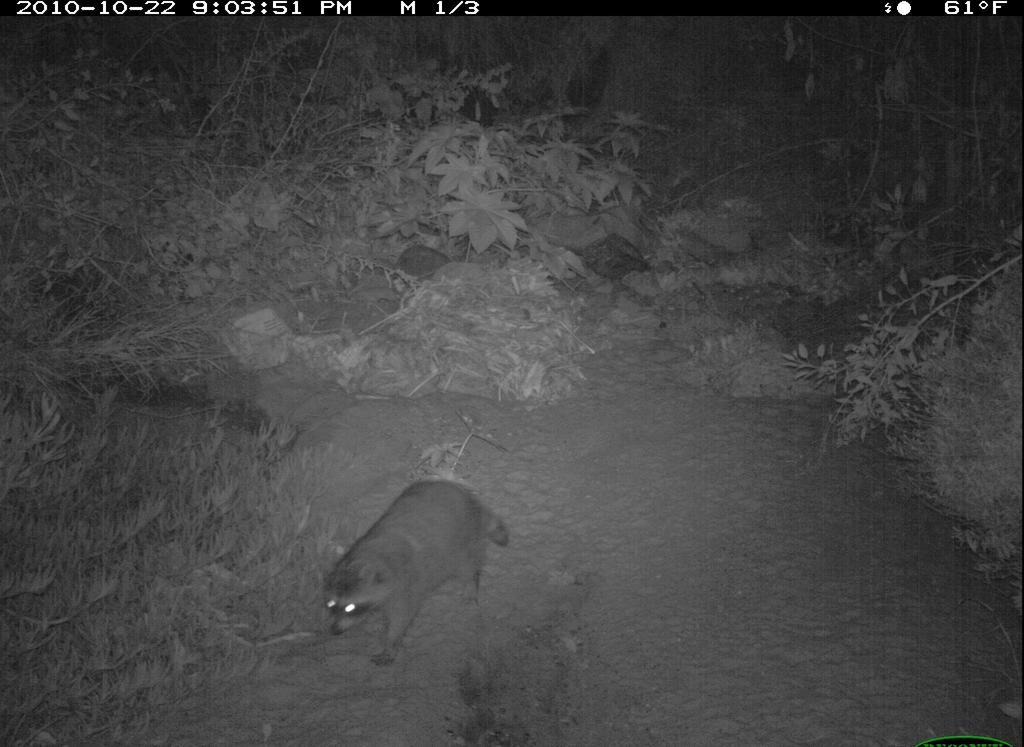raccoon: (315, 477, 515, 665)
